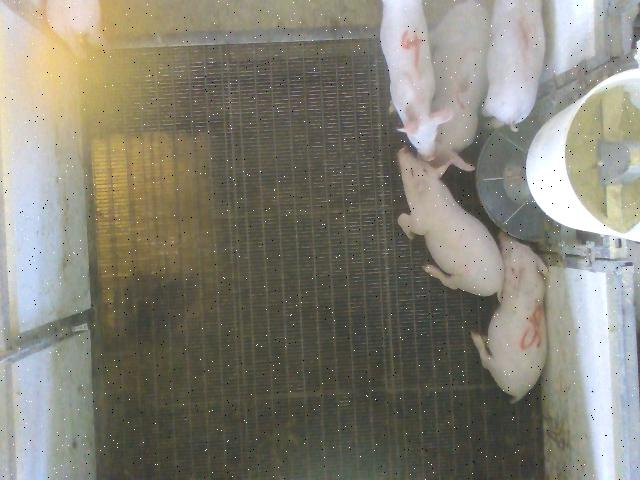pig-1: (482, 1, 545, 131)
pig-3: (430, 2, 490, 171)
pig-4: (380, 2, 454, 159)
pig-5: (471, 233, 548, 402)
